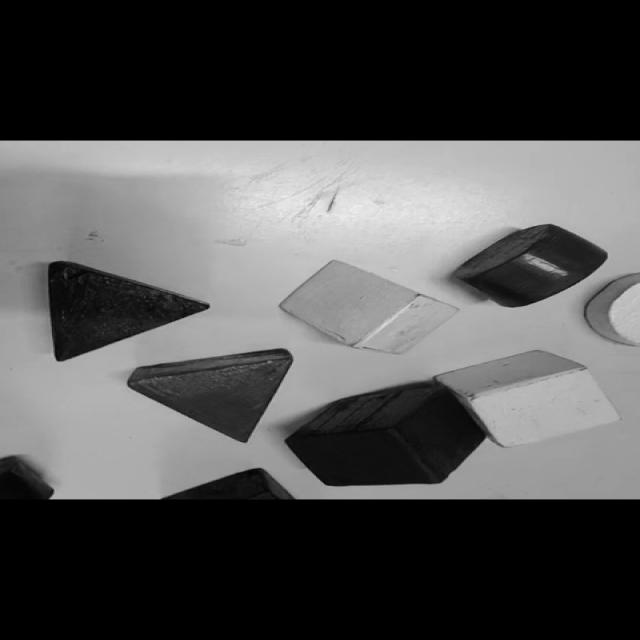bcircle: (0, 455, 55, 498)
bcube: (154, 468, 304, 498)
btriangle: (48, 260, 206, 360)
rcircle: (453, 225, 608, 306)
rcube: (285, 383, 481, 484)
rtriangle: (129, 350, 296, 443)
ycircle: (583, 273, 639, 346)
ycube: (435, 351, 622, 446)
ytriangle: (282, 260, 460, 353)
